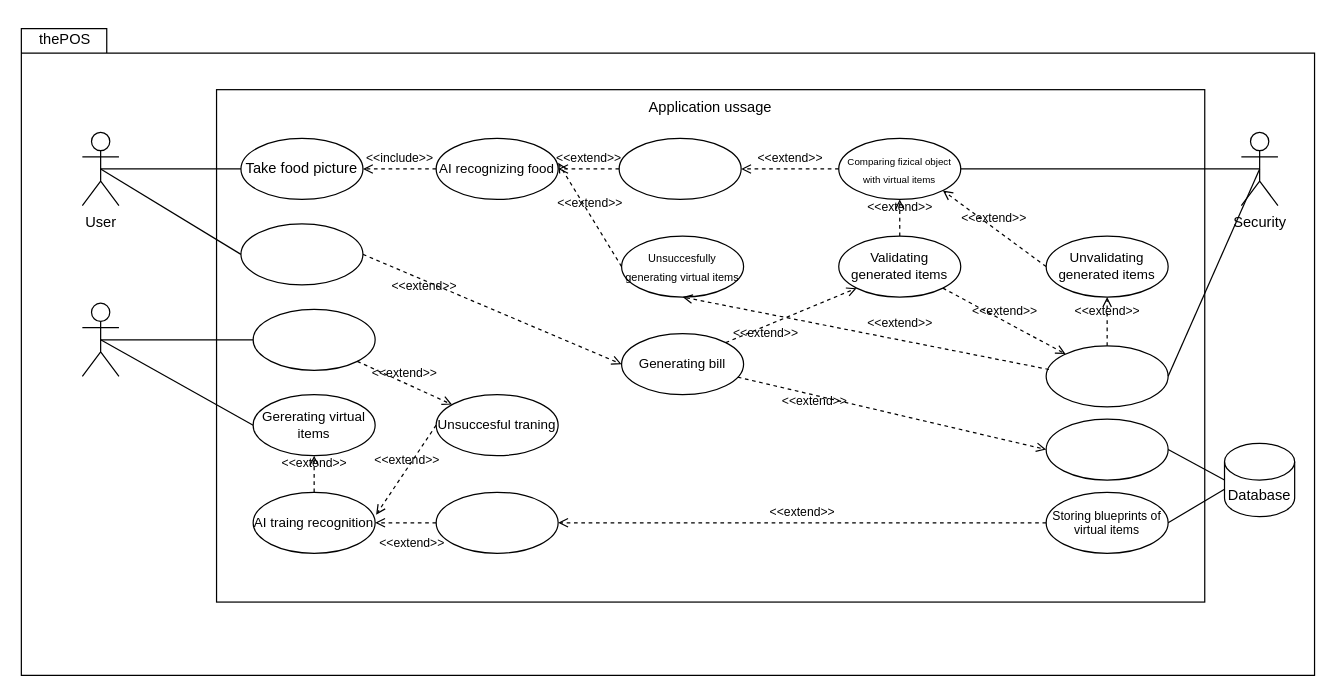
This 1336x697 diagram has some shape labels left out. Here are the shapes that lost their labels. From the top down, the box of each, then its label:
(618, 137, 741, 199): Succesfully generating virtual items
(240, 223, 363, 285): Paying bill
(81, 302, 119, 376): Administrator
(252, 308, 375, 370): Deleting virtual items
(1045, 345, 1168, 407): Correcting virtual generated items
(1045, 418, 1168, 480): Storing bills
(435, 491, 558, 553): Succesful traning
